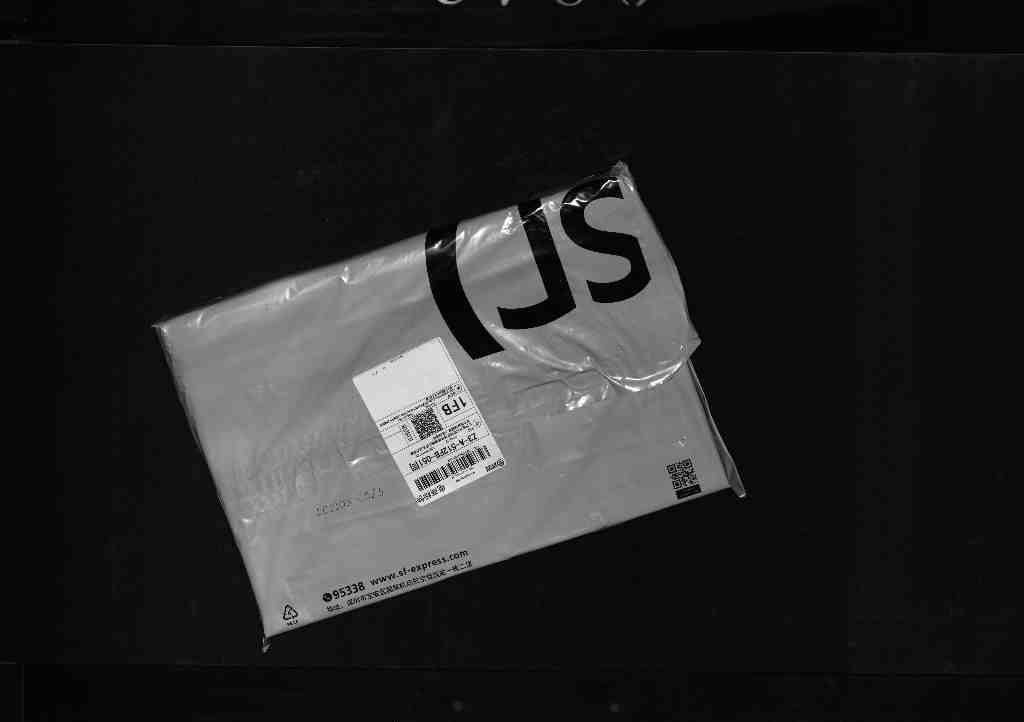box: (145, 162, 755, 637)
